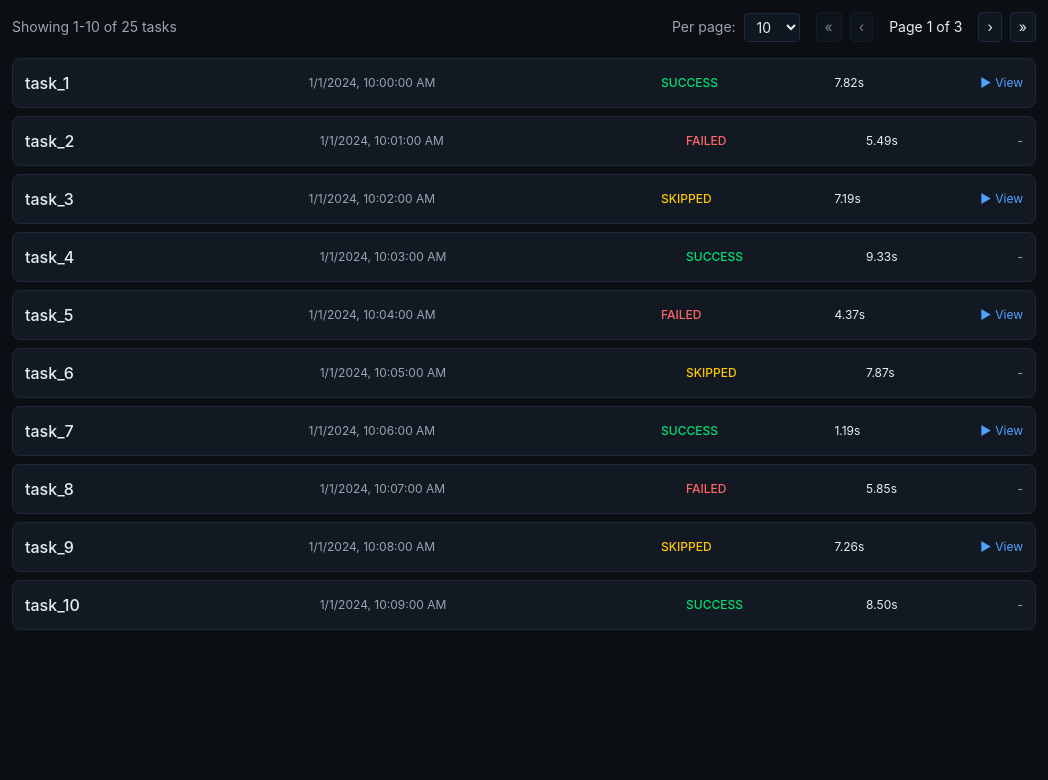
ServiceTasksTable › Bug #75: Pagination functionality › navigates to previous page
Go to page 2
Click the button titled "Next page" at (990, 27), box [978,12,1002,42]
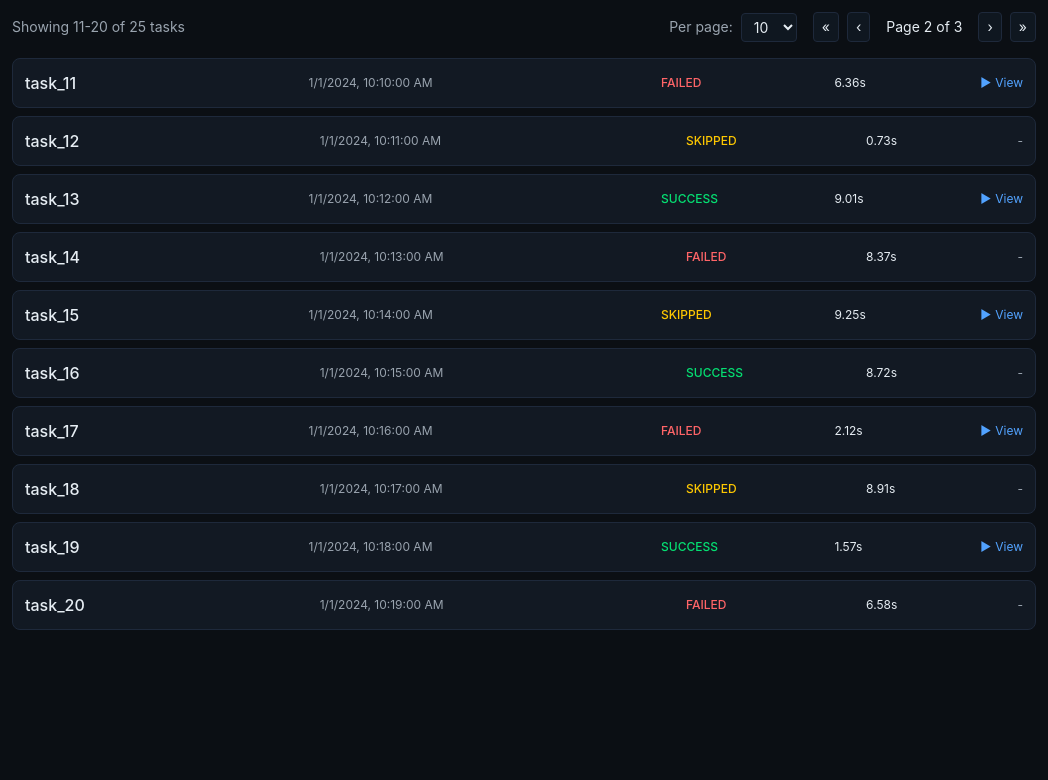
Then go back to page 1
Click the button titled "Previous page" at (859, 27), box [847,12,870,42]
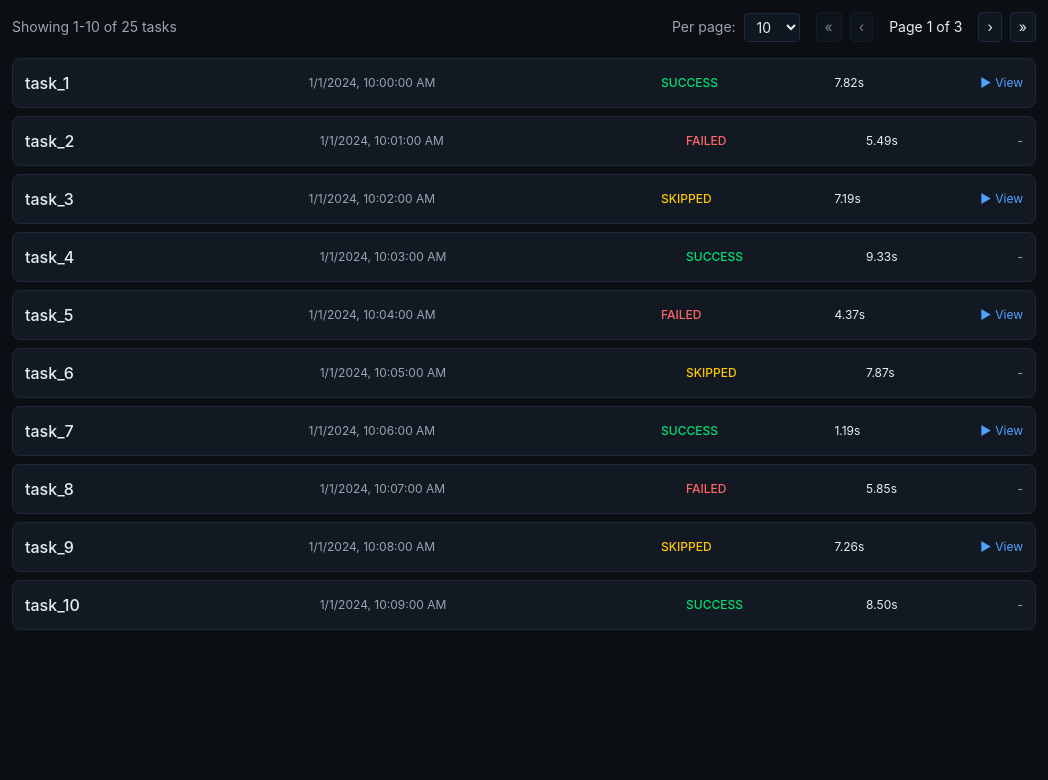
Result: the text "Page 1 of 3" is shown at [889,18,962,35]
Result: the text "Showing 1-10 of 25 tasks" is shown at [12,17,177,37]
